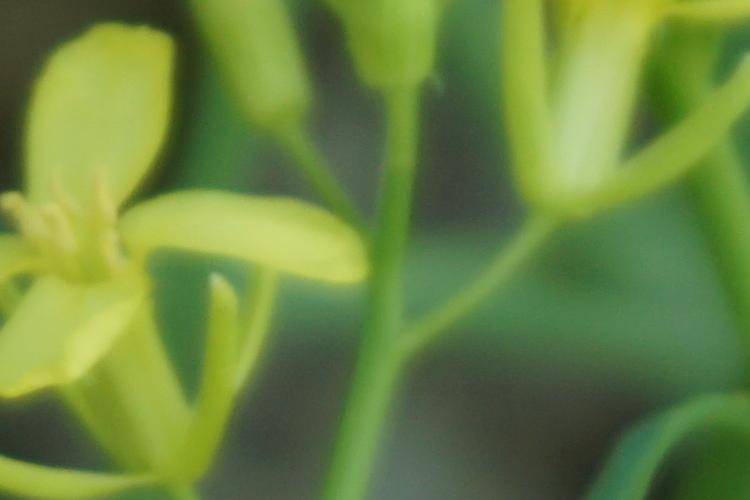bud: (197, 1, 320, 132), (337, 4, 456, 113)
yellow: (1, 30, 351, 459), (498, 1, 750, 253)
